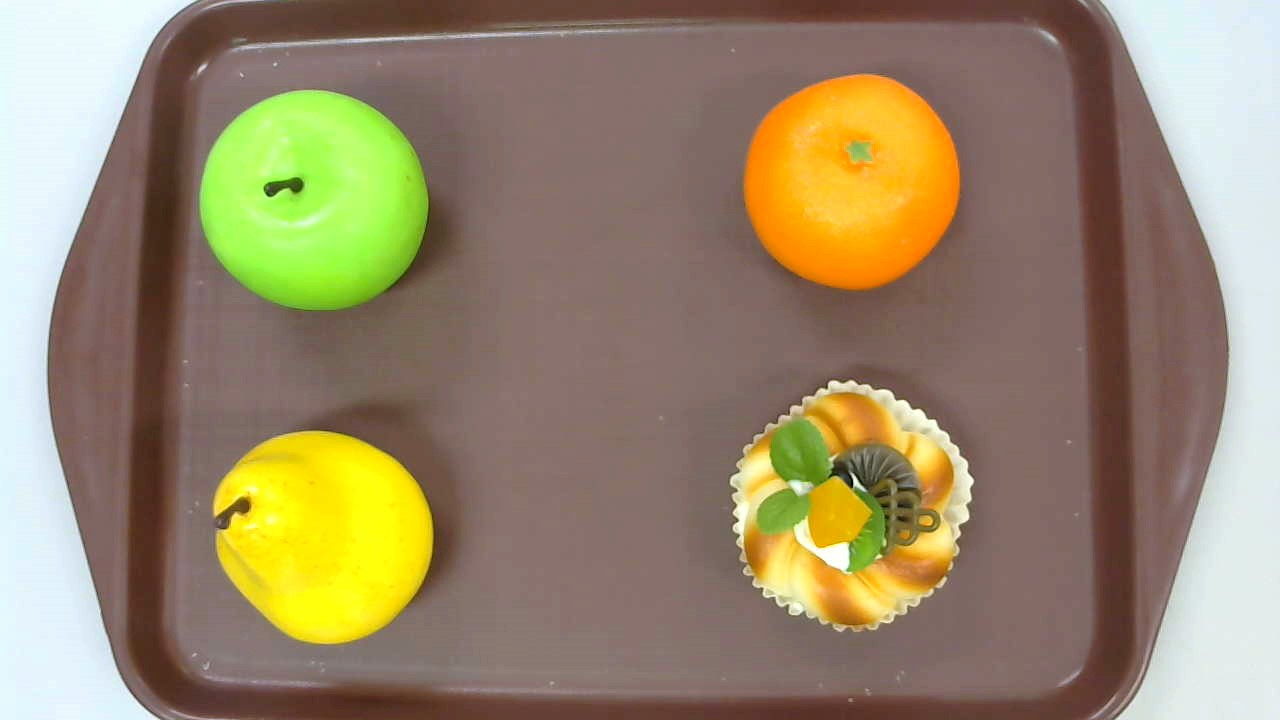fruit tower: (728, 378, 974, 633)
green apple: (198, 88, 428, 312)
orange: (744, 72, 959, 291)
yellow pear: (212, 431, 433, 643)
